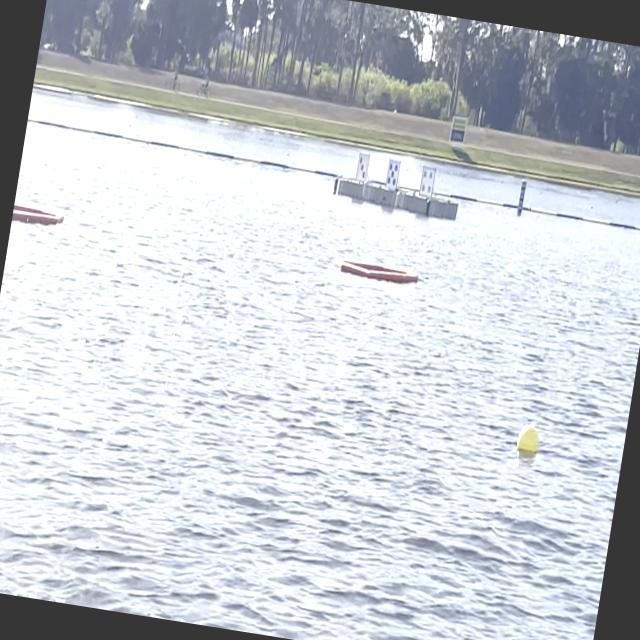buoy: (508, 414, 552, 472)
